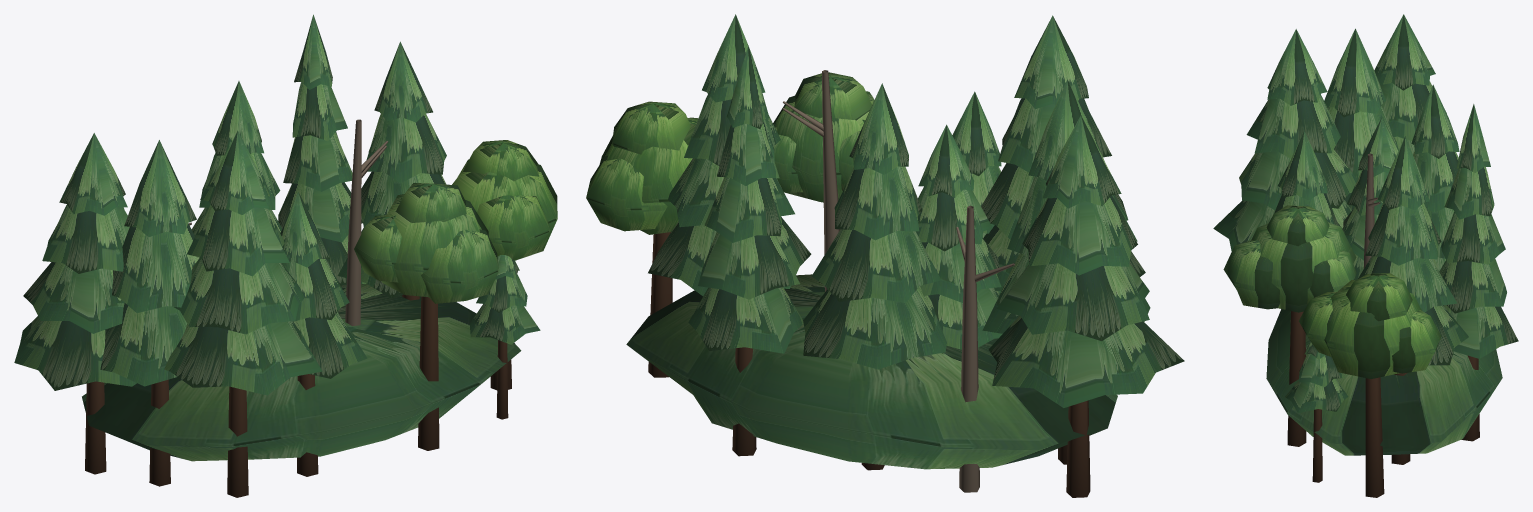
The model's file is forest-mass-d.glb.
3 renders of one model, left to right at view 1: azimuth 30°, elevation 25°; view 2: azimuth 150°, elevation 25°; view 3: azimuth 270°, elevation 25°, orthographic. The views are drawn at different scales.
Visible parts, largest first — view 1: Needles, Trunk; view 2: Needles, Trunk; view 3: Needles, Trunk.
Part boxes in pixels (x1,y1,x2,y2): Needles: [14, 14, 557, 461]; Trunk: [85, 119, 511, 497]; Needles: [586, 14, 1184, 469]; Trunk: [648, 70, 1090, 497]; Needles: [1213, 14, 1518, 455]; Trunk: [1287, 153, 1479, 497].
Size of the model in its own units: 15.62 by 10.64 by 8.88.
2 materials, 1 textured.
